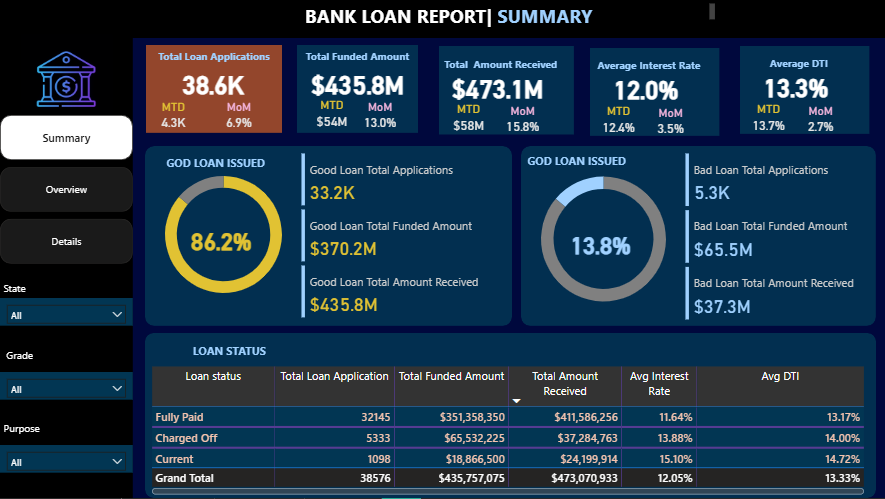

What the dashboard file says about the page in this screenshot:
{"tool":"powerbi","page":{"name":"Summary","canvas":[1280,720],"ordinal":0},"visuals":[{"type":"shape","box":[0,0,1279.5,54.9],"z":0},{"type":"shape","box":[210.3,65.1,196.6,127.2],"z":0,"group":"g1"},{"type":"shape","box":[430.1,65.1,174.9,127.2],"z":0,"group":"g2"},{"type":"shape","box":[634.8,66.5,195.1,127.9],"z":0,"group":"g3"},{"type":"shape","box":[1069.5,66.5,187.1,127.2],"z":0,"group":"g5"},{"type":"shape","box":[852.6,69.4,187.1,127.2],"z":0,"group":"g4"},{"type":"shape","box":[0,53.5,192.3,666.5],"z":1000},{"type":"card","fields":{"Values":["_Measures.Total Loan Application"]},"box":[209.6,85.2,196.9,69.7],"z":1000,"group":"g1"},{"type":"card","fields":{"Values":["_Measures.Total Funded Amount"]},"box":[429.4,85.2,175.2,69.7],"z":1000,"group":"g2"},{"type":"card","fields":{"Values":["_Measures.Average DTI"]},"box":[1056.9,90.3,187.4,69.7],"z":1000,"group":"g5"},{"type":"card","fields":{"Values":["_Measures.Total Amount Received"]},"box":[621.7,90.4,195.4,70.1],"z":1000,"group":"g3"},{"type":"card","fields":{"Values":["_Measures.Avg Interest Rate"]},"box":[840,93.2,187.4,69.7],"z":1000,"group":"g4"},{"type":"textbox","box":[210.3,65.1,196.6,40.5],"z":2000,"group":"g1"},{"type":"textbox","box":[430.1,65.1,174.9,40.5],"z":2000,"group":"g2"},{"type":"textbox","box":[621.7,75.9,204.8,36.3],"z":2000,"group":"g3"},{"type":"textbox","box":[1056.9,75.9,196.4,36.1],"z":2000,"group":"g5"},{"type":"textbox","box":[840,78.8,196.4,36.1],"z":2000,"group":"g4"},{"type":"shape","box":[209.6,211.1,530.6,260.2],"z":2000},{"type":"card","title":"MTD","fields":{"Values":["_Measures.MTD Total Funded Amount"]},"box":[444,141.9,71.5,50.1],"z":3000,"group":"g2"},{"type":"card","title":"MTD","fields":{"Values":["_Measures.MTD Loan Applications"]},"box":[213.6,144.6,73.1,47.7],"z":3000,"group":"g1"},{"type":"card","title":"MTD","fields":{"Values":["_Measures.MTD Average DTI"]},"box":[1072.5,146.9,76.5,50.1],"z":3000,"group":"g5"},{"type":"card","title":"MTD","fields":{"Values":["_Measures.MTD Total Amount Received"]},"box":[638,147.3,79.7,50.3],"z":3000,"group":"g3"},{"type":"card","title":"MTD","fields":{"Values":["_Measures.MTD Avg Interest Rate"]},"box":[855.6,149.8,76.5,50.1],"z":3000,"group":"g4"},{"type":"textbox","box":[0,400.5,79.5,40.5],"z":3000},{"type":"card","title":"MoM","fields":{"Values":["_Measures.MoM Loan Application"]},"box":[307.8,144.6,74.8,47.7],"z":4000,"group":"g1"},{"type":"card","title":"MoM","fields":{"Values":["_Measures.MoM Total Funded Amount"]},"box":[516.8,144.6,66.5,47.7],"z":4000,"group":"g2"},{"type":"card","title":"MoM","fields":{"Values":["_Measures.MoM Avg DTI"]},"box":[1150.4,149.6,71.1,47.7],"z":4000,"group":"g5"},{"type":"card","title":"MoM","fields":{"Values":["_Measures.MoM Total Amount Received"]},"box":[719.2,150.1,74.2,48],"z":4000,"group":"g3"},{"type":"card","title":"MoM","fields":{"Values":["_Measures.MoM Avg Interest Rate"]},"box":[933.5,152.5,71.1,47.7],"z":4000,"group":"g4"},{"type":"card","fields":{"Values":["_Measures.Good Loan %"]},"box":[261,310.2,116.1,71.1],"z":4000},{"type":"textbox","box":[236,219.9,175.2,41.1],"z":5000},{"type":"textbox","box":[436.2,0,602.5,44.7],"z":6000},{"type":"group","id":"g1","title":"Group 1","box":[209.6,65.1,196.6,127.2],"z":7000},{"type":"group","id":"g2","title":"Group 1","box":[429.4,65.1,176.4,127.2],"z":8000},{"type":"group","id":"g3","title":"Group 1","box":[621.7,66.5,208.2,131.6],"z":9000},{"type":"group","id":"g4","title":"Group 1","box":[840,69.4,199.5,130.1],"z":10000},{"type":"donutChart","fields":{"Category":["bank_loan_data.Good vs Bad Loan"],"Y":["_Measures.Total Loan Application"]},"box":[212.5,212.5,221.2,253],"z":11000},{"type":"group","id":"g5","title":"Group 1","box":[1056.9,66.5,199.5,130.1],"z":12000},{"type":"shape","box":[753.3,211.1,513.3,260.2],"z":13000},{"type":"cardVisual","fields":{"Data":["_Measures.Good Loan Total Applications","_Measures.Good Loan Total Funded Amount","_Measures.Good Loan Total Amount Received"]},"box":[430.8,216.9,294.9,248.7],"z":14000},{"type":"donutChart","fields":{"Category":["bank_loan_data.Good vs Bad Loan"],"Y":["_Measures.Total Loan Application"]},"box":[754.7,219.8,235.7,251.6],"z":15000},{"type":"card","fields":{"Values":["_Measures.Bad Loan %"]},"box":[809.6,316.6,117.1,72.3],"z":16000},{"type":"shape","box":[209.6,481.4,1056.9,238.6],"z":17000},{"type":"textbox","box":[758.2,217,175.6,42.1],"z":18000},{"type":"cardVisual","fields":{"Data":["_Measures.Bad Loan Total Applications","_Measures.Bad Loan Total Funded Amount","_Measures.Bad Loan Total Amount Received"]},"box":[986,216.9,270.4,250.1],"z":19000},{"type":"tableEx","fields":{"Values":["bank_loan_data.loan_status","_Measures.Total Loan Application","_Measures.Total Funded Amount","_Measures.Total Amount Received","_Measures.Avg Interest Rate","_Measures.Average DTI"]},"box":[214,524.8,1039.5,195.2],"z":20000},{"type":"textbox","box":[219.8,491.6,224.1,34.7],"z":21000},{"type":"slicer","fields":{"Values":["bank_loan_data.address_state"]},"box":[0,430.8,192.3,40.5],"z":22000},{"type":"slicer","fields":{"Values":["bank_loan_data.grade"]},"box":[0,537.8,192.3,40.5],"z":23000},{"type":"textbox","box":[0,497.3,79.5,40.5],"z":24000},{"type":"textbox","box":[0,602.9,79.5,40.5],"z":25000},{"type":"slicer","fields":{"Values":["bank_loan_data.purpose"]},"box":[0,643.4,192.3,40.5],"z":26000},{"type":"image","box":[0,44.8,193.7,143.1],"z":27000},{"type":"pageNavigator","box":[0,166.3,192.3,215.4],"z":28000}]}

Visuals, with their boxes in screenshot pixels (x1, y1, x2, y2), scaled from the page's 1280x720 canvas onto the 885x499 screenshot:
shape: Rect(0, 0, 884, 38)
shape: Rect(145, 45, 281, 133)
shape: Rect(297, 45, 418, 133)
shape: Rect(439, 46, 574, 135)
shape: Rect(739, 46, 869, 134)
shape: Rect(589, 48, 719, 136)
shape: Rect(0, 37, 133, 498)
card - _Measures.Total Loan Application: Rect(145, 59, 281, 107)
card - _Measures.Total Funded Amount: Rect(297, 59, 418, 107)
card - _Measures.Average DTI: Rect(731, 63, 860, 111)
card - _Measures.Total Amount Received: Rect(430, 63, 565, 111)
card - _Measures.Avg Interest Rate: Rect(581, 65, 710, 113)
textbox: Rect(145, 45, 281, 73)
textbox: Rect(297, 45, 418, 73)
textbox: Rect(430, 53, 571, 78)
textbox: Rect(731, 53, 867, 78)
textbox: Rect(581, 55, 717, 80)
shape: Rect(145, 146, 512, 327)
"MTD" card: Rect(307, 98, 356, 133)
"MTD" card: Rect(148, 100, 198, 133)
"MTD" card: Rect(742, 102, 794, 137)
"MTD" card: Rect(441, 102, 496, 137)
"MTD" card: Rect(592, 104, 644, 139)
textbox: Rect(0, 278, 55, 306)
"MoM" card: Rect(213, 100, 265, 133)
"MoM" card: Rect(357, 100, 403, 133)
"MoM" card: Rect(795, 104, 845, 137)
"MoM" card: Rect(497, 104, 549, 137)
"MoM" card: Rect(645, 106, 695, 139)
card - _Measures.Good Loan %: Rect(180, 215, 261, 264)
textbox: Rect(163, 152, 284, 181)
textbox: Rect(302, 0, 718, 31)
"Group 1" group: Rect(145, 45, 281, 133)
"Group 1" group: Rect(297, 45, 419, 133)
"Group 1" group: Rect(430, 46, 574, 137)
"Group 1" group: Rect(581, 48, 719, 138)
donutChart - bank_loan_data.Good vs Bad Loan x _Measures.Total Loan Application: Rect(147, 147, 300, 323)
"Group 1" group: Rect(731, 46, 869, 136)
shape: Rect(521, 146, 876, 327)
cardVisual - _Measures.Good Loan Total Applications x _Measures.Good Loan Total Funded Amount: Rect(298, 150, 502, 323)
donutChart - bank_loan_data.Good vs Bad Loan x _Measures.Total Loan Application: Rect(522, 152, 685, 327)
card - _Measures.Bad Loan %: Rect(560, 219, 641, 270)
shape: Rect(145, 334, 876, 498)
textbox: Rect(524, 150, 646, 180)
cardVisual - _Measures.Bad Loan Total Applications x _Measures.Bad Loan Total Funded Amount: Rect(682, 150, 869, 324)
tableEx - bank_loan_data.loan_status x _Measures.Total Loan Application: Rect(148, 364, 867, 498)
textbox: Rect(152, 341, 307, 365)
slicer - bank_loan_data.address_state: Rect(0, 299, 133, 327)
slicer - bank_loan_data.grade: Rect(0, 373, 133, 401)
textbox: Rect(0, 345, 55, 373)
textbox: Rect(0, 418, 55, 446)
slicer - bank_loan_data.purpose: Rect(0, 446, 133, 474)
image: Rect(0, 31, 134, 130)
pageNavigator: Rect(0, 115, 133, 265)
